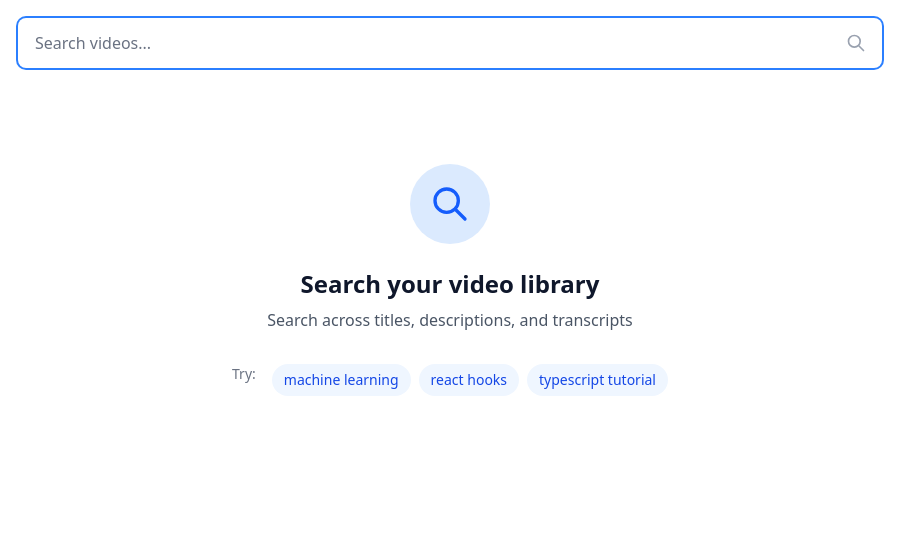
it: SearchPage Phase 6 Tests › T037: ARIA Announcement Tests › should exclude disabled types from announcement
Type "test" into the search field at (450, 43), box x1=18 y1=18 x2=882 y2=68
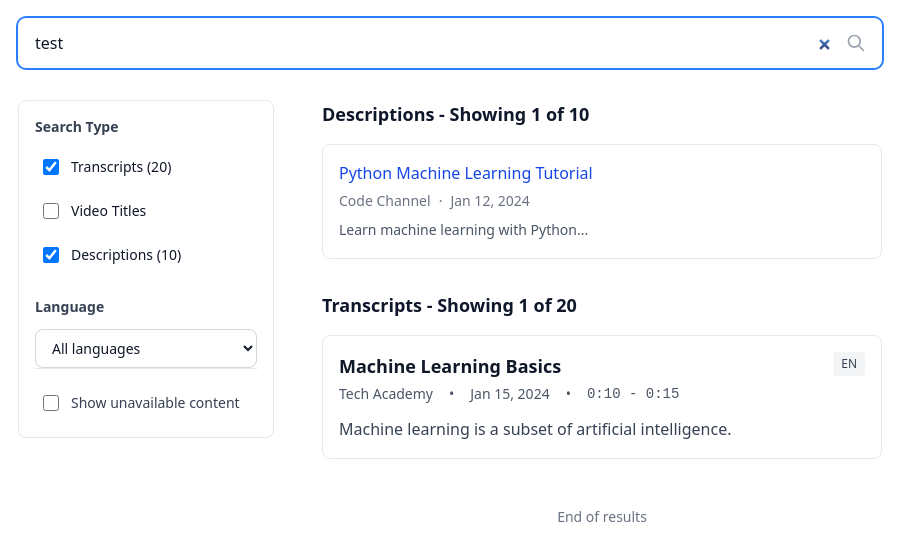
Expected: the text "title" is not shown
Expected: the heading "Python Machine Learning Tutorial" is shown, x1=339 y1=162 x2=593 y2=184
